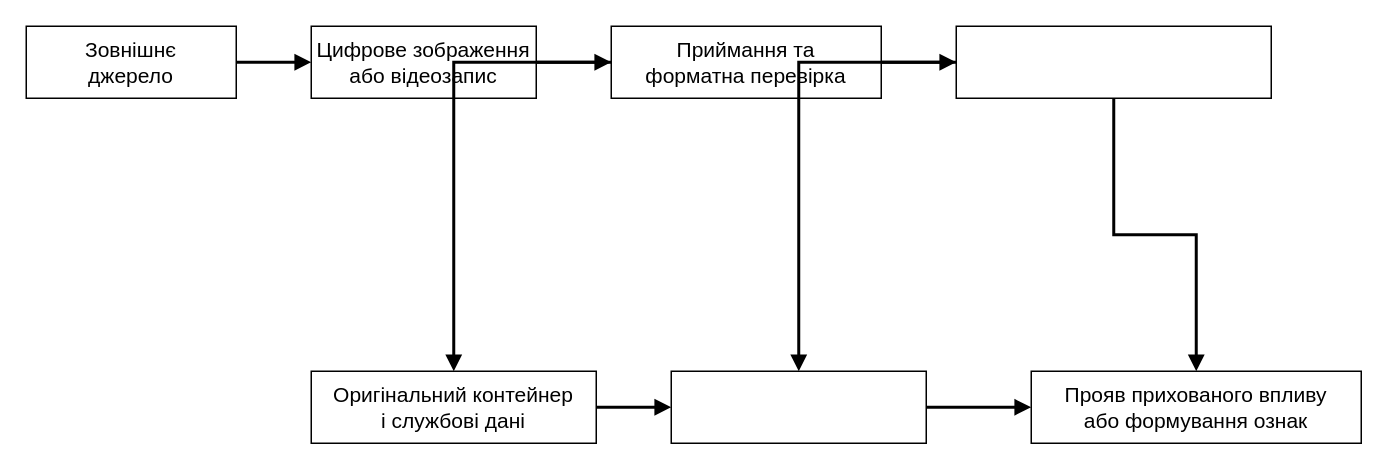
This 1388x470 diagram has some shape labels left out. Here are the shapes that lost their labels. From the top down, the centre of each, then its label:
At pixel 1113 61: "Контрольоване декодування та перетворення".
At pixel 798 406: "Зберігання та публікація".
